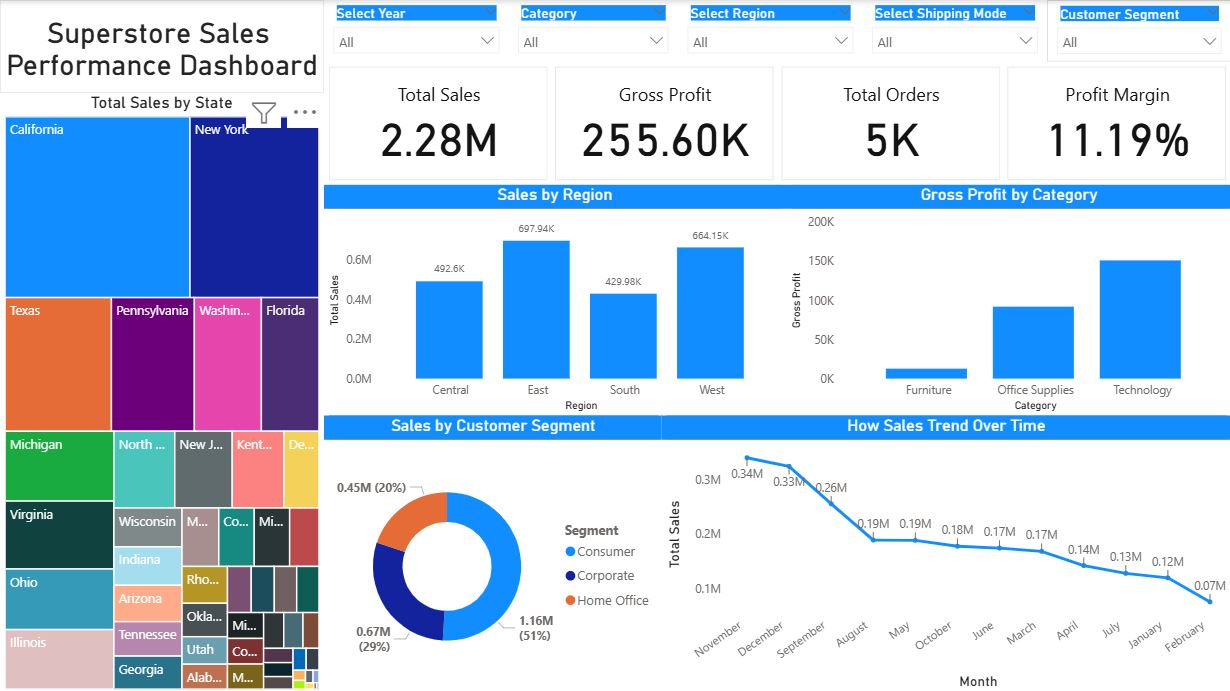

The dashboard page shown, as its layout file describes it:
{"tool":"powerbi","page":{"name":"Page 1","canvas":[1280,720],"ordinal":0},"visuals":[{"type":"slicer","fields":{"Values":["Dim_Date.Year"]},"box":[336,0,192,64],"z":0},{"type":"slicer","fields":{"Values":["Dim_Location.Region"]},"box":[704,0,192,64],"z":1000},{"type":"slicer","fields":{"Values":["Dim_Product.Category"]},"box":[528,0,176,64],"z":2000},{"type":"slicer","fields":{"Values":["Dim_Shipmode.Ship Mode"]},"box":[896,0,192,64],"z":3000},{"type":"slicer","fields":{"Values":["Dim_Customer.Segment"]},"box":[1088,0,192,64],"z":4000},{"type":"columnChart","title":"Sales by Region","fields":{"Category":["Dim_Location.Region","Dim_Location.State"],"Y":["Fact_Sales.Total Sales"]},"box":[336,192,480,240],"z":5000},{"type":"columnChart","fields":{"Category":["Dim_Product.Category","Dim_Product.Sub-Category"],"Y":["Fact_Sales.Total Profit"]},"box":[816,192,464,240],"z":6000},{"type":"donutChart","title":"Sales by Customer Segment","fields":{"Category":["Dim_Customer.Segment"],"Y":["Fact_Sales.Total Sales"]},"box":[336,432,352,288],"z":7000},{"type":"lineChart","title":"How Sales Trend Over Time","fields":{"Category":["Dim_Date.Month Name"],"Y":["Fact_Sales.Total Sales"]},"box":[688,432,592,288],"z":8000},{"type":"cardVisual","fields":{"Data":["Fact_Sales.Total Sales","Fact_Sales.Total Profit","Fact_Sales.Total Orders","Fact_Sales.Profit Margin"]},"box":[336,64,944,128],"z":9000},{"type":"treemap","title":"Total Sales by State","fields":{"Values":["Fact_Sales.Total Sales"],"Group":["Dim_Location.State","Dim_Location.Region"]},"box":[0,96,336,624],"z":10000},{"type":"card","fields":{"Values":["Fact_Sales._Report Title"]},"box":[0,0,336,96],"z":11000}]}

Visuals, with their boxes in screenshot pixels (x1, y1, x2, y2), scaled from the page's 1280x720 canvas onto the 1230x691 screenshot:
slicer - Dim_Date.Year: [323,0,507,61]
slicer - Dim_Location.Region: [676,0,861,61]
slicer - Dim_Product.Category: [507,0,676,61]
slicer - Dim_Shipmode.Ship Mode: [861,0,1046,61]
slicer - Dim_Customer.Segment: [1046,0,1229,61]
"Sales by Region" columnChart: [323,184,784,415]
columnChart - Dim_Product.Category x Dim_Product.Sub-Category: [784,184,1229,415]
"Sales by Customer Segment" donutChart: [323,415,661,690]
"How Sales Trend Over Time" lineChart: [661,415,1229,690]
cardVisual - Fact_Sales.Total Sales x Fact_Sales.Total Profit: [323,61,1229,184]
"Total Sales by State" treemap: [0,92,323,690]
card - Fact_Sales._Report Title: [0,0,323,92]
